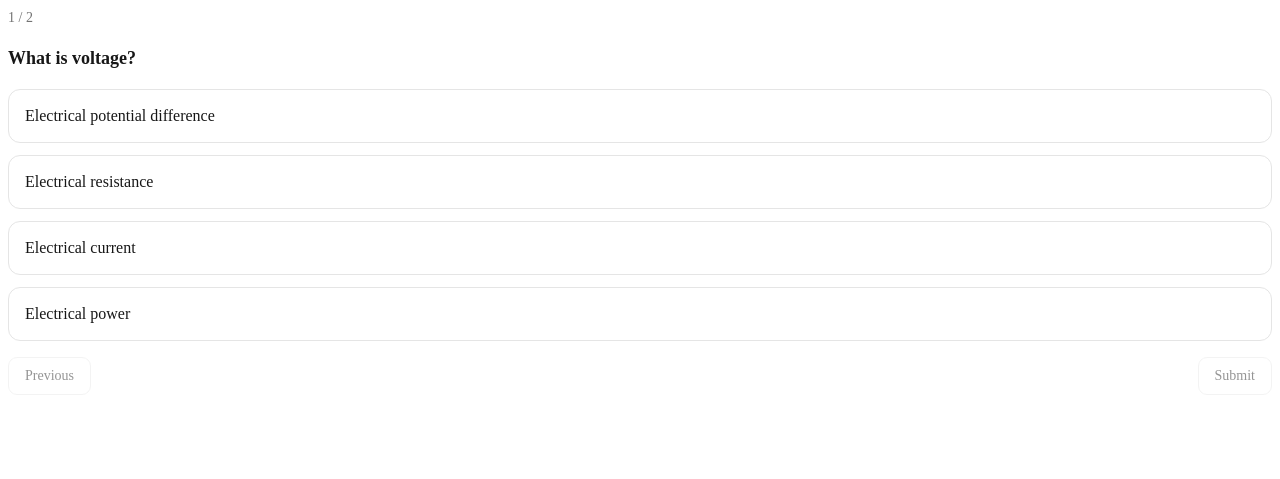
Quiz › moves to the next question
Click the button "Electrical potential difference". click: {"x": 120, "y": 115}
box: [8, 89, 1272, 143]
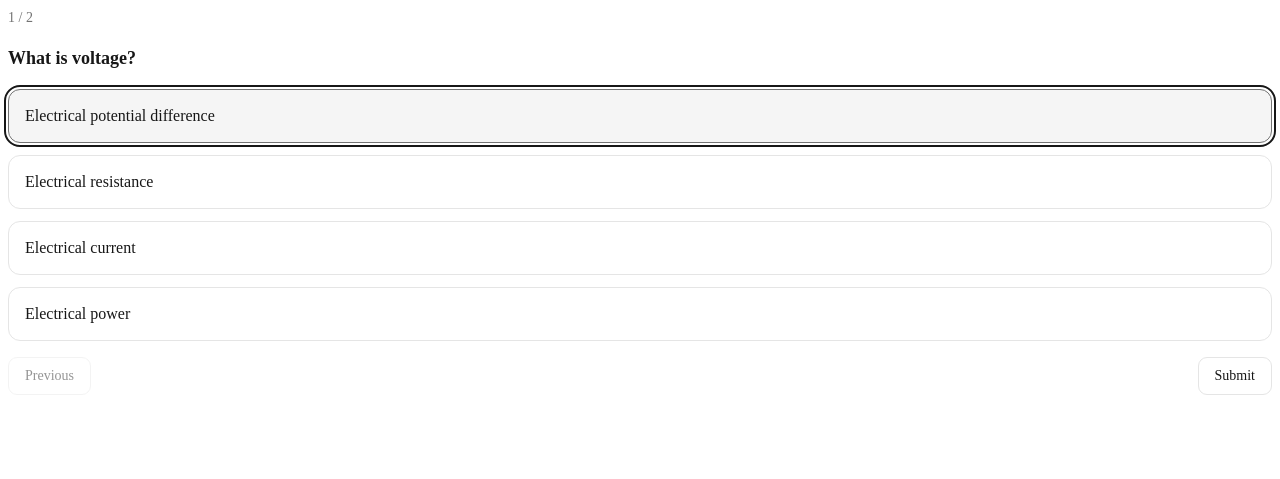
Click the button "Submit". click: {"x": 1235, "y": 376}
box: [1198, 357, 1272, 395]
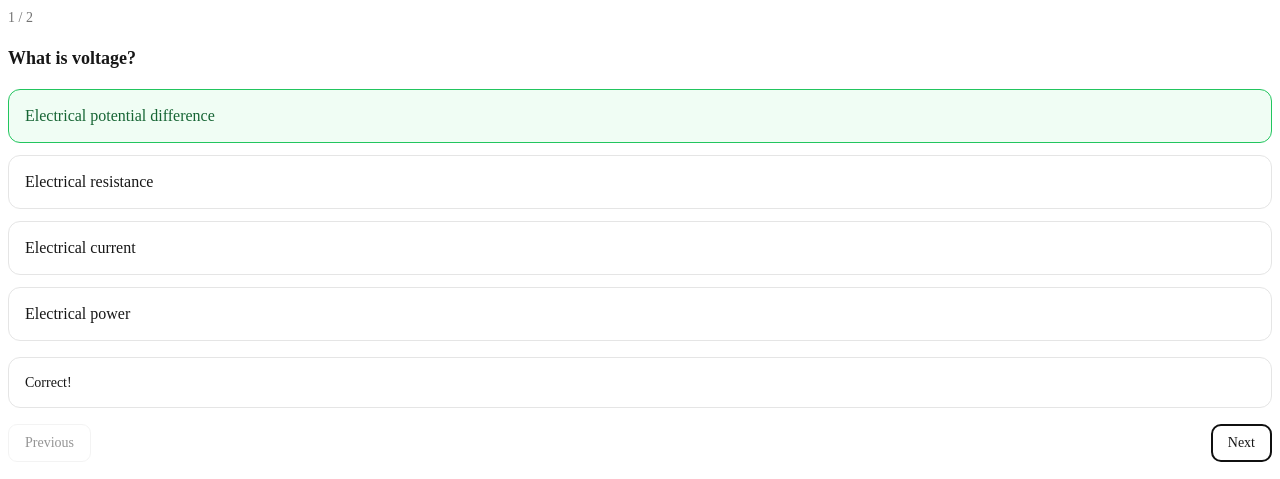
Click the button "Next". click: {"x": 1241, "y": 443}
box: [1211, 424, 1272, 462]
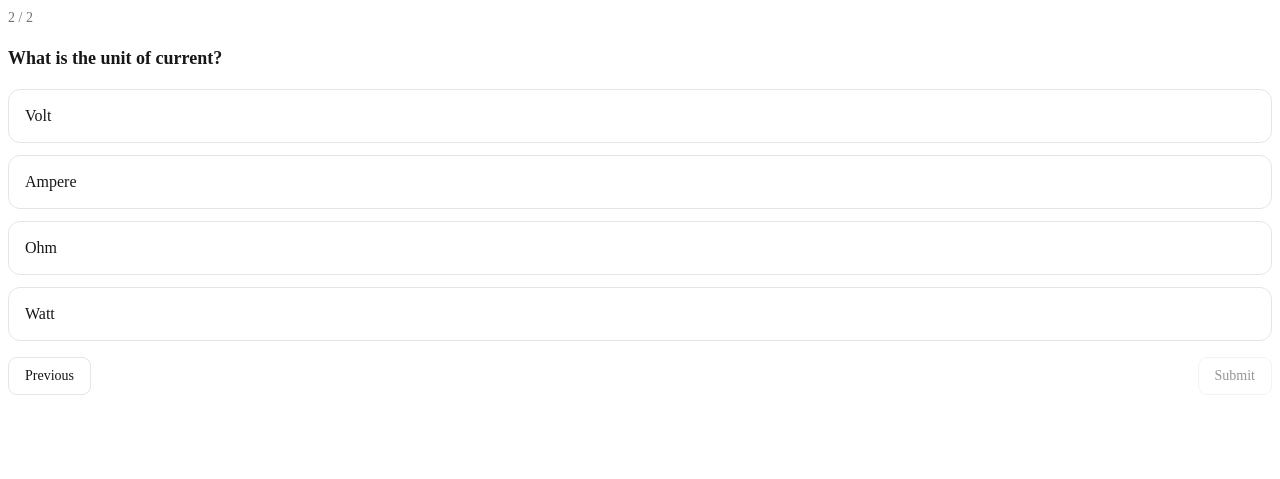
Now the text "What is the unit of current?" is shown, box [8, 48, 222, 68]
Now the text "2 / 2" is shown, box [8, 10, 33, 25]
